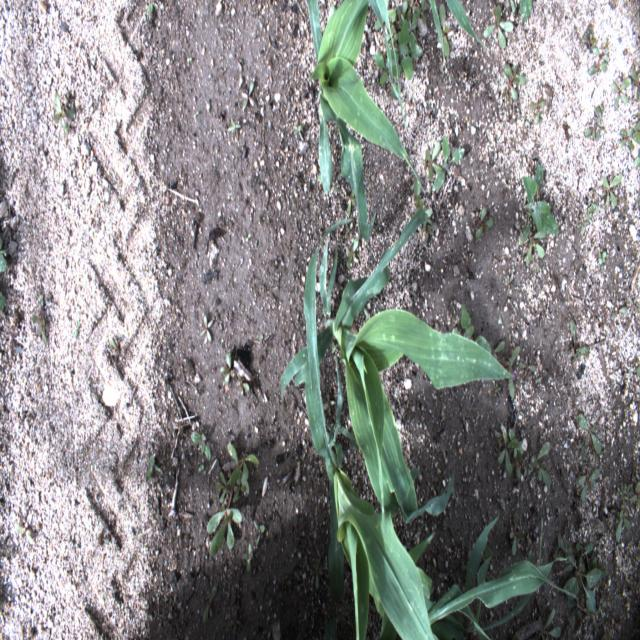crop: (304, 219, 570, 637), (281, 204, 519, 524), (305, 0, 421, 242), (446, 1, 488, 52), (429, 3, 446, 65)
weed: (204, 437, 260, 558), (554, 527, 608, 616), (519, 164, 561, 269), (425, 133, 470, 201), (496, 418, 531, 485), (576, 22, 610, 78), (516, 600, 565, 638), (216, 350, 256, 396), (46, 83, 80, 137), (610, 485, 638, 549), (185, 422, 217, 476), (484, 3, 516, 54), (240, 516, 268, 574), (564, 313, 590, 368), (595, 172, 625, 219), (527, 438, 554, 488), (0, 221, 13, 321), (200, 566, 221, 627), (609, 65, 636, 112), (574, 413, 604, 455), (27, 290, 48, 348), (618, 109, 638, 167), (472, 199, 496, 247), (237, 74, 259, 126), (515, 352, 545, 390), (503, 60, 526, 109), (608, 286, 636, 326), (506, 512, 529, 560), (582, 100, 608, 142), (528, 82, 550, 131), (399, 26, 418, 82), (11, 506, 35, 548), (578, 464, 602, 504), (199, 306, 220, 351), (101, 332, 124, 371), (575, 202, 599, 237), (223, 107, 246, 141), (145, 451, 164, 488), (344, 235, 365, 268), (506, 0, 541, 19), (502, 267, 520, 303), (400, 3, 425, 27), (288, 116, 307, 144), (370, 51, 385, 84), (596, 242, 610, 275), (440, 10, 450, 53), (144, 0, 162, 22), (242, 222, 256, 250), (184, 41, 196, 70), (69, 316, 82, 341)
